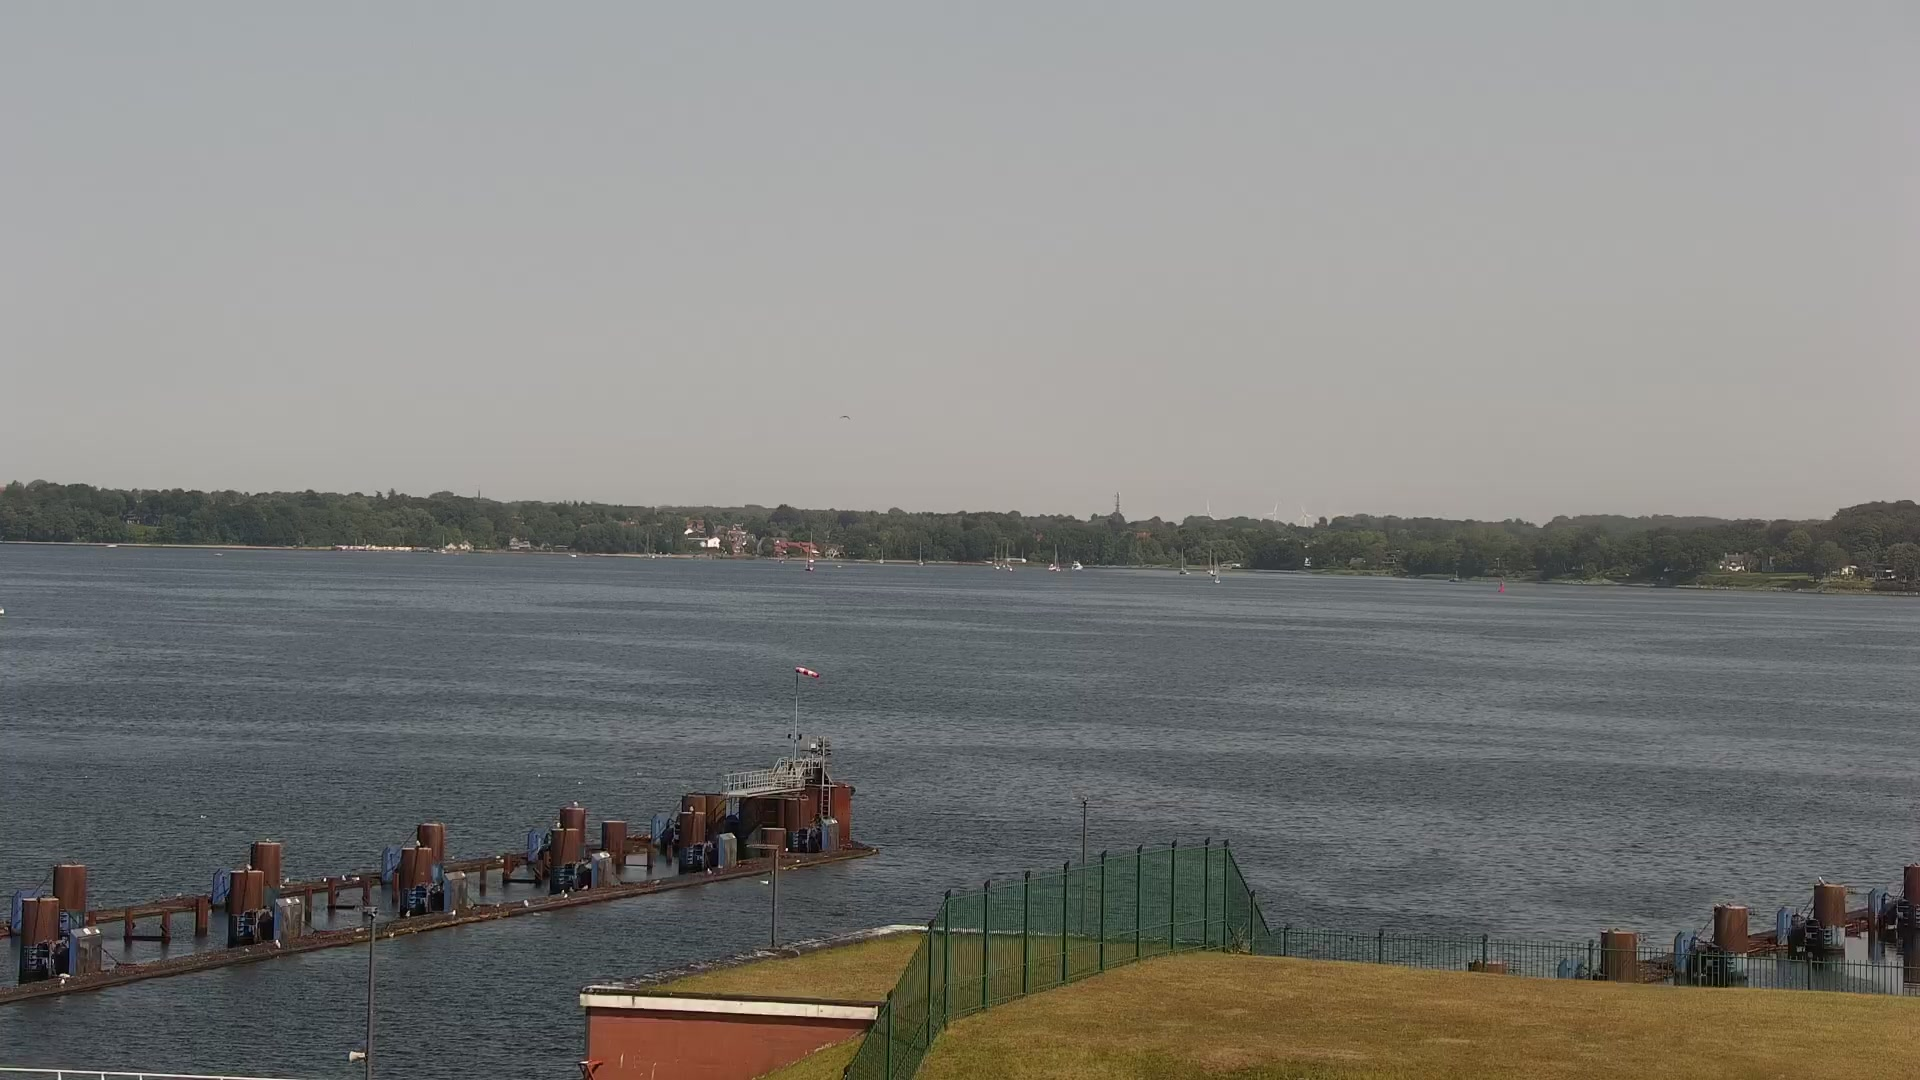sea: (803, 527, 815, 571), (1047, 543, 1062, 570), (1178, 545, 1188, 574), (1212, 554, 1221, 584), (1000, 542, 1010, 568), (1207, 550, 1216, 576), (1448, 568, 1462, 582), (916, 541, 924, 564), (990, 545, 998, 568), (996, 541, 1004, 564), (1069, 560, 1083, 572), (878, 545, 885, 563), (440, 533, 446, 553), (567, 553, 578, 558), (105, 543, 117, 547), (214, 553, 224, 556)
